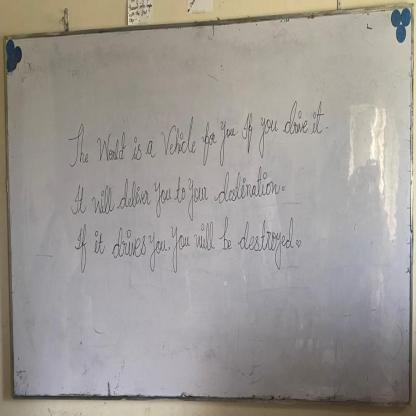Handwritten text: (61, 88, 328, 171), (70, 206, 299, 278), (66, 162, 283, 219)
Whiteboard: (2, 8, 412, 399)
